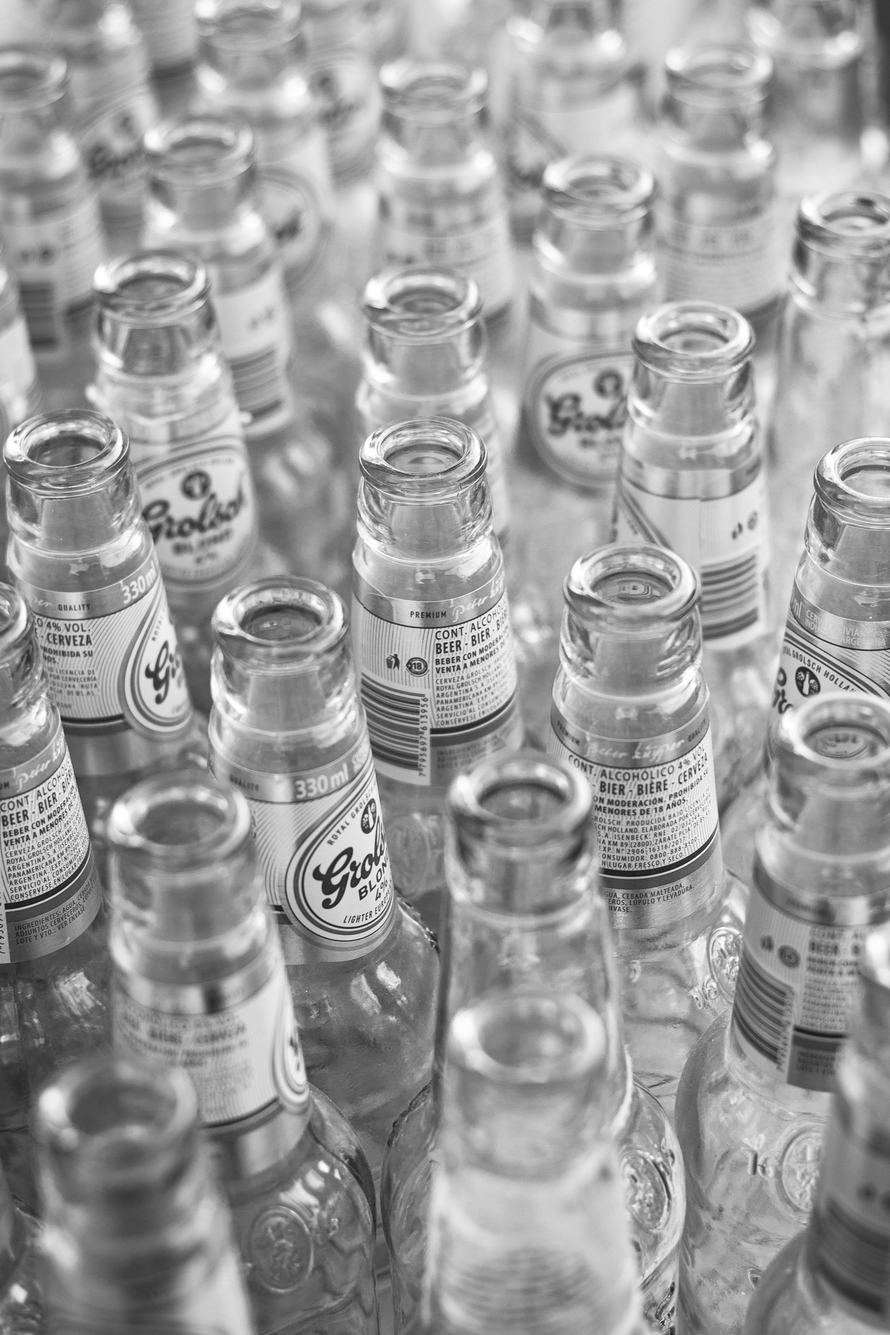Bottle-Detection: (77, 765, 409, 1334), (412, 935, 662, 1335), (731, 700, 890, 1313), (191, 577, 422, 958), (0, 386, 209, 780), (605, 291, 801, 685), (348, 394, 546, 783), (435, 664, 639, 1004), (82, 247, 278, 595), (353, 39, 541, 343), (327, 237, 533, 487), (126, 108, 304, 350), (657, 46, 798, 291), (0, 59, 100, 358), (538, 121, 675, 309), (821, 435, 890, 688)
bottlr: (10, 1038, 258, 1335)
